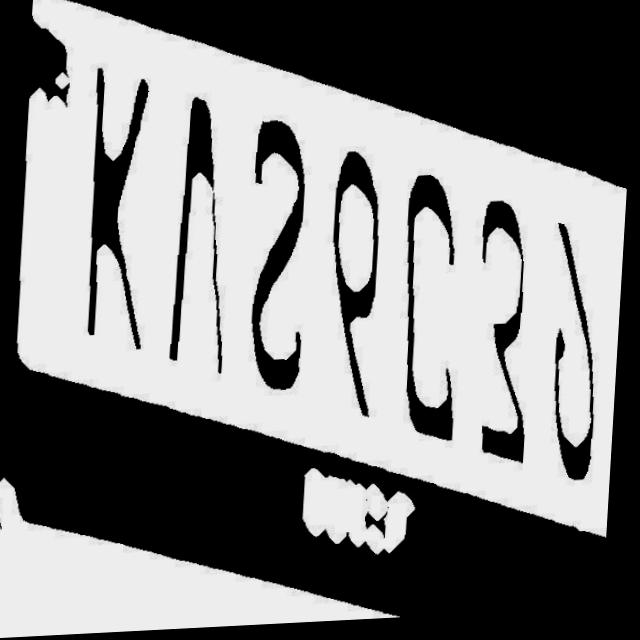3: (476, 191, 556, 494)
6: (325, 126, 402, 426)
9: (540, 211, 620, 510)
c: (405, 168, 485, 474)
k: (75, 44, 162, 372)
s: (232, 100, 326, 405)
v: (157, 80, 249, 392)
